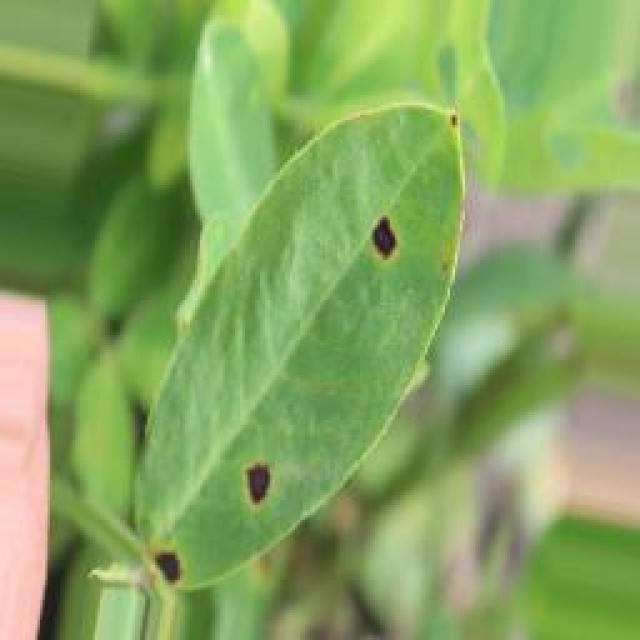Yellowish: (207, 443, 289, 532), (339, 199, 412, 268), (409, 91, 469, 174), (119, 526, 195, 590)
